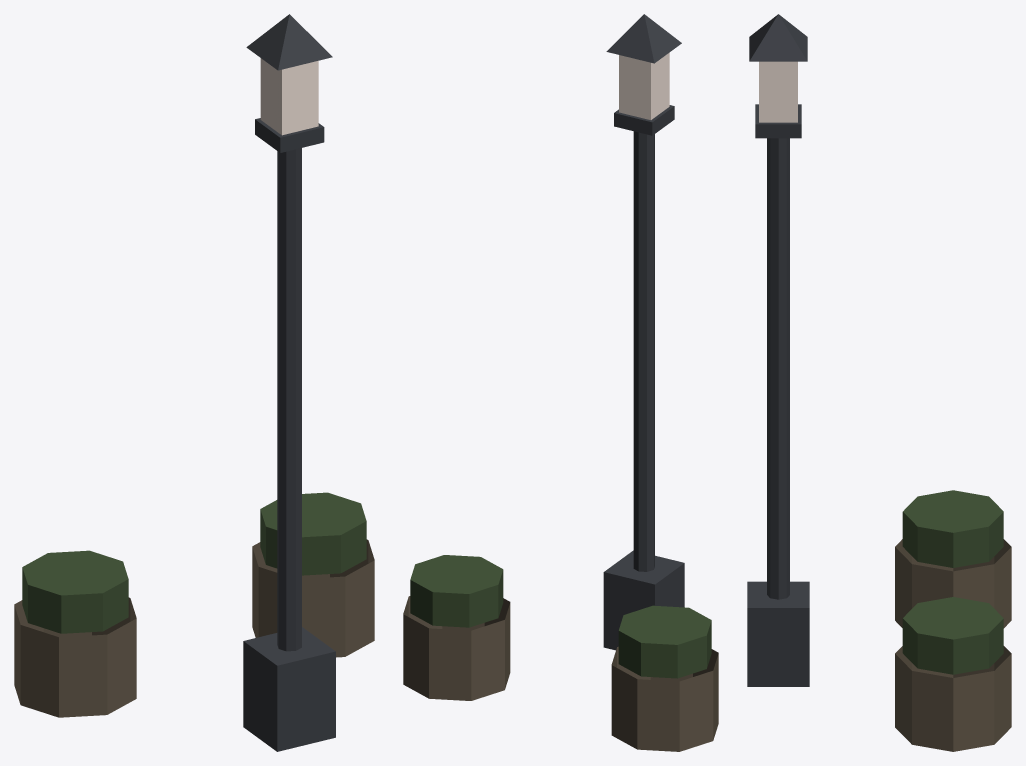
File: entrance.fbx
3 renders of one model, left to right at view 1: azimuth 30°, elevation 25°; view 2: azimuth 150°, elevation 25°; view 3: azimuth 270°, elevation 25°, orthographic. The views are drawn at different scales.
Visible parts, largest first — view 1: a2003/700/entrance; view 2: a2003/700/entrance; view 3: a2003/700/entrance.
Boxes of the visible parts, left/top/right/bottom form: a2003/700/entrance: left=14, top=14, right=374, bottom=751; a2003/700/entrance: left=403, top=14, right=718, bottom=751; a2003/700/entrance: left=747, top=14, right=1011, bottom=751.
Size of the model in its own units: 1.9 by 3.75 by 1.36.
